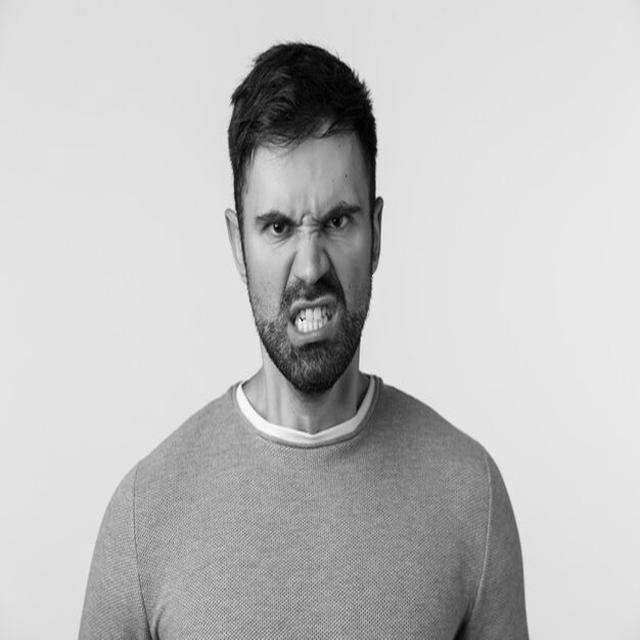Angry: (242, 131, 371, 390)
